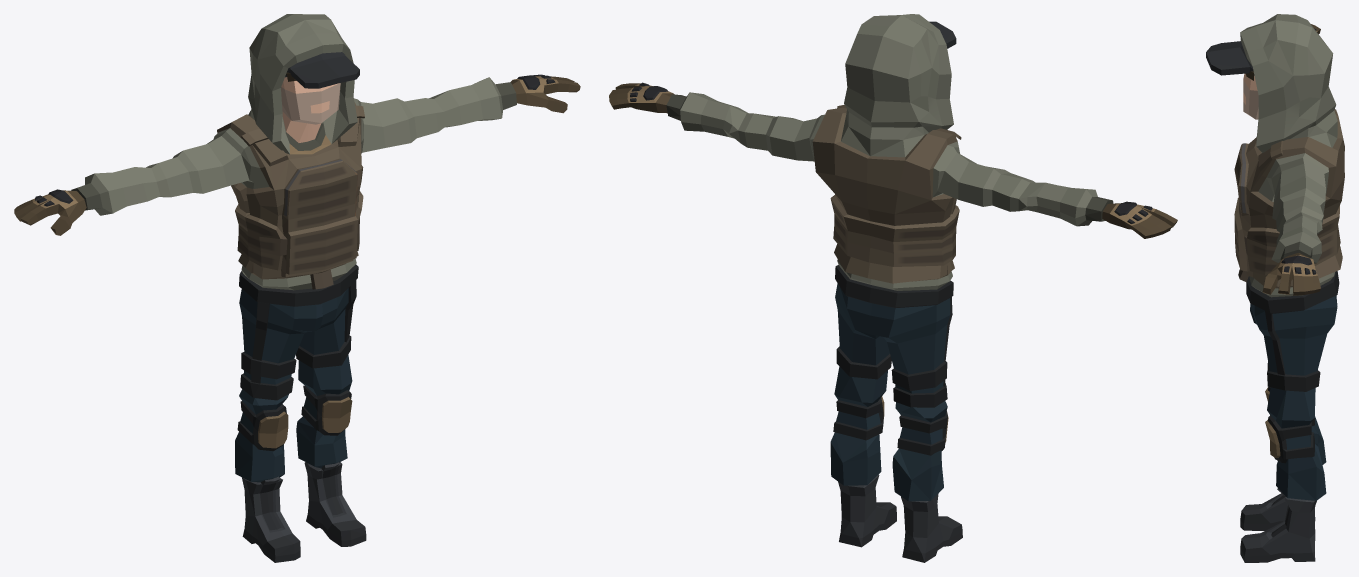
Rendered from SM_Chr_Contractor_Male_02.fbx.
The picture shows the model from 3 angles, left to right: view 1: azimuth 30°, elevation 25°; view 2: azimuth 150°, elevation 25°; view 3: azimuth 270°, elevation 25°; orthographic projection.
Parts seen in each view (by area): view 1: SM_Chr_Contractor_Male_02; view 2: SM_Chr_Contractor_Male_02; view 3: SM_Chr_Contractor_Male_02.
Boxes of the visible parts, <box> form: SM_Chr_Contractor_Male_02: <box>14,14,580,562</box>; SM_Chr_Contractor_Male_02: <box>609,14,1177,562</box>; SM_Chr_Contractor_Male_02: <box>1206,14,1344,562</box>.
Size of the model in its own units: 205 by 183 by 44.27.
